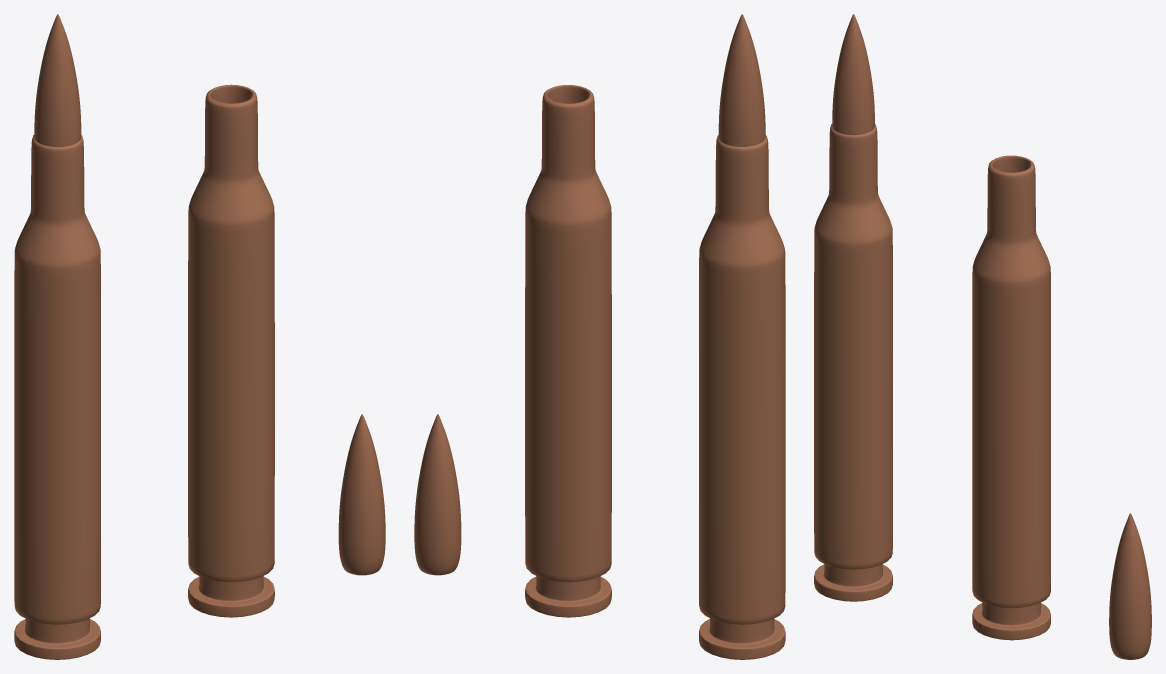
The model's file is 762x51_bullet.fbx.
The picture shows the model from 3 angles, left to right: view 1: azimuth 30°, elevation 25°; view 2: azimuth 150°, elevation 25°; view 3: azimuth 330°, elevation 25°; orthographic projection. The views are drawn at different scales.
Visible parts, largest first — view 1: Shell.2, Shell, Bullet.2, Bullet; view 2: Shell.2, Shell, Bullet.2, Bullet; view 3: Shell.2, Shell, Bullet.2, Bullet.
Boxes of the visible parts, x1,y1,x2,y2 form: Shell.2: (188, 84, 274, 617); Shell: (14, 135, 100, 659); Bullet.2: (338, 414, 385, 575); Bullet: (34, 14, 81, 146); Shell.2: (525, 85, 611, 617); Shell: (699, 135, 785, 659); Bullet.2: (414, 414, 461, 575); Bullet: (718, 14, 765, 146); Shell.2: (972, 155, 1050, 640); Shell: (814, 124, 892, 601); Bullet.2: (1109, 513, 1151, 659); Bullet: (832, 14, 874, 135).
Size of the model in its own units: 18.55 by 30.72 by 3.82.
